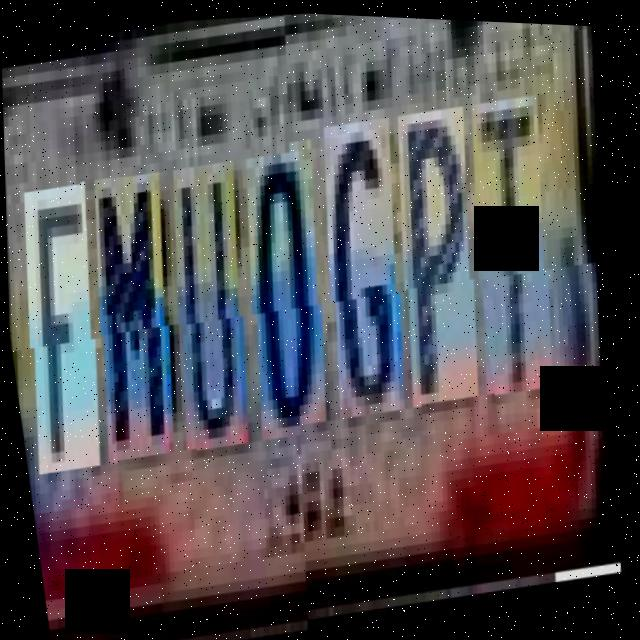F: (9, 181, 128, 477)
G: (309, 127, 435, 435)
M: (79, 170, 203, 468)
O: (232, 148, 356, 446)
P: (383, 116, 509, 424)
T: (457, 106, 583, 414)
U: (158, 159, 276, 456)
